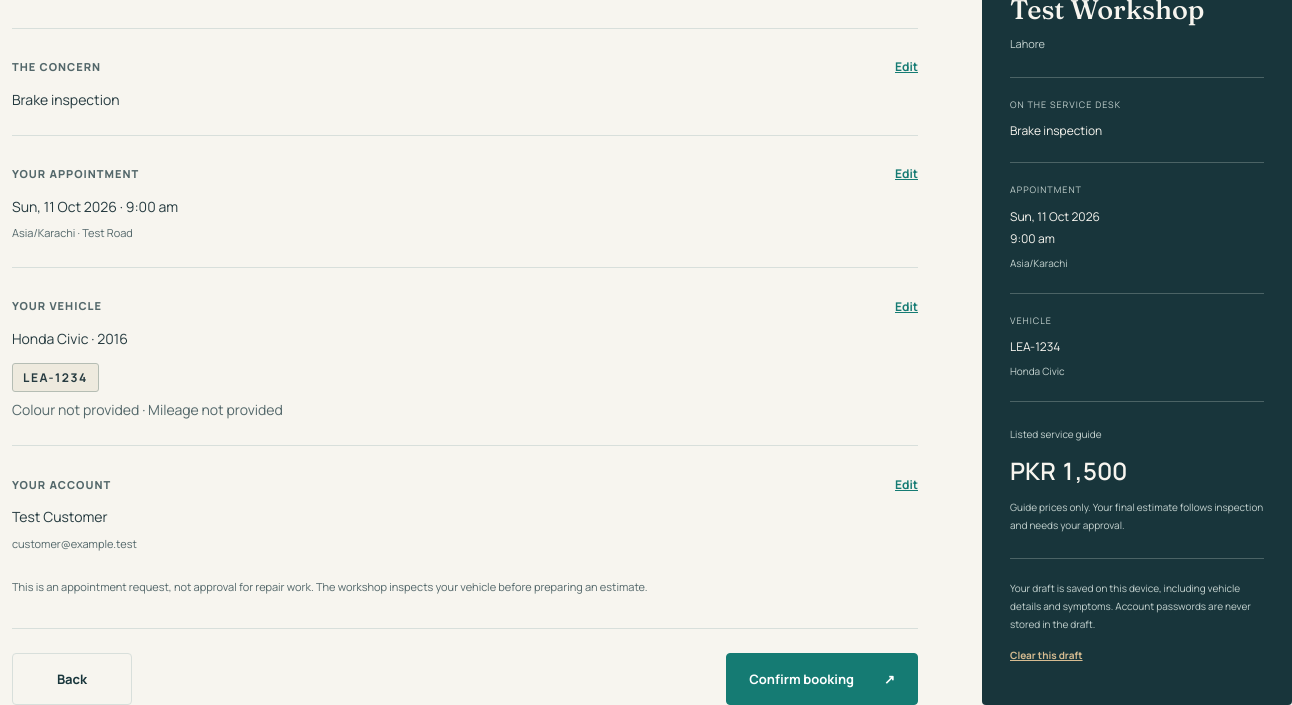
Test: handles a server slot conflict by returning to live appointments and clearing the stale intent
(page scrolled)
Click the button "Confirm booking ↗".
click(822, 679)  # box [726,653,918,704]
(page scrolled)
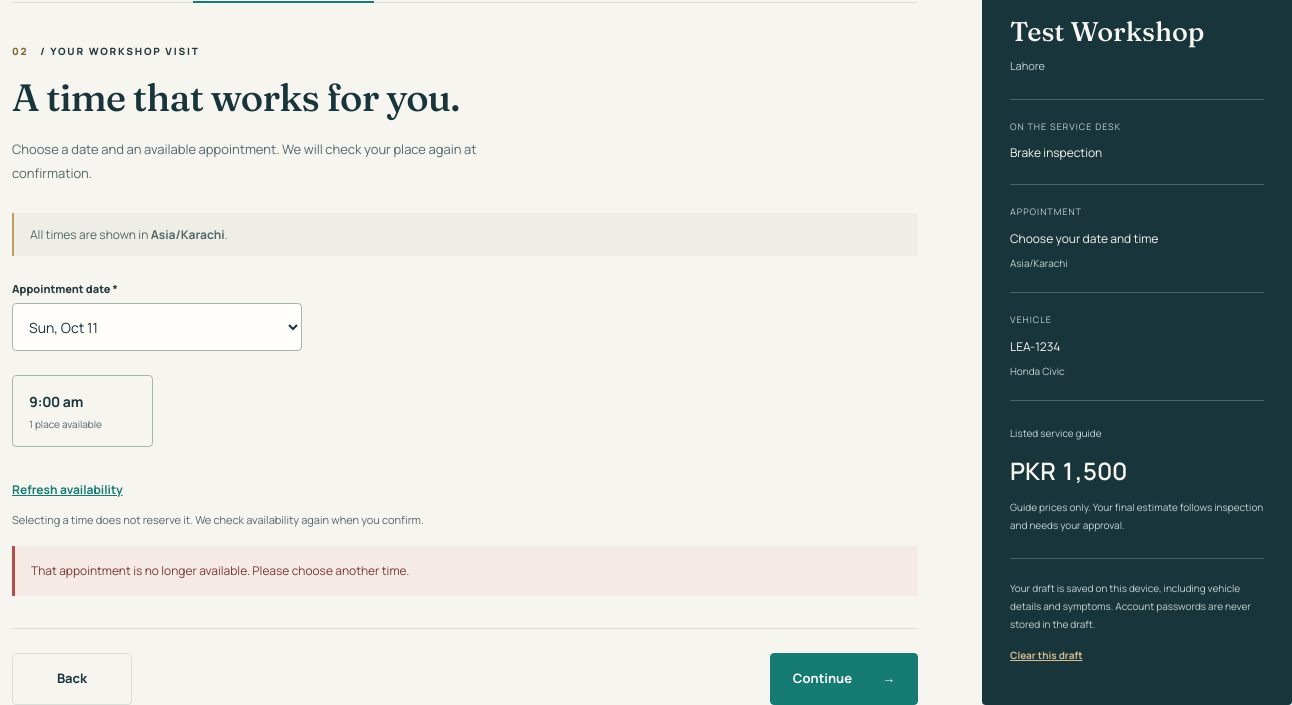
Expected: the heading "A time that works for you." is shown, [12,74,460,121]
Expected: the message shows "choose another time", [31,562,409,579]
